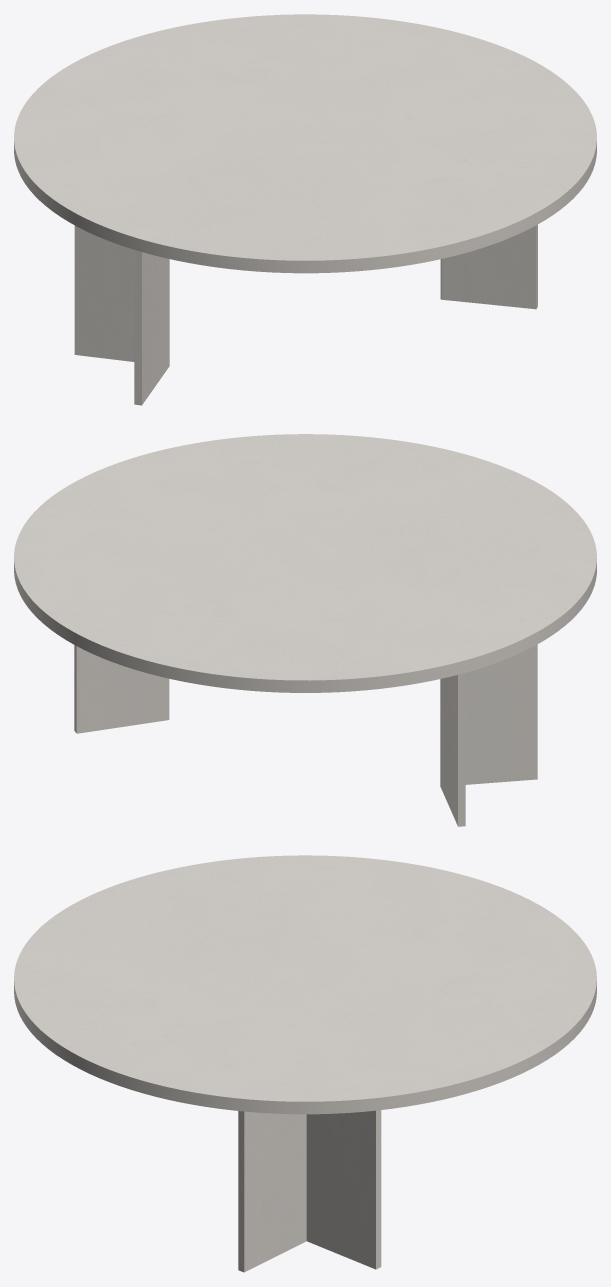
File: pearlwhite_round_standard_valleyv.glb
The picture shows the model from 3 angles, top to bottom: view 1: azimuth 30°, elevation 25°; view 2: azimuth 150°, elevation 25°; view 3: azimuth 270°, elevation 25°; orthographic projection.
Visible parts, largest first — view 1: standard_round, valleyv; view 2: standard_round, valleyv; view 3: standard_round, valleyv.
Boxes of the visible parts, x1,y1,x2,y2 form: standard_round: [14, 14, 596, 273]; valleyv: [74, 224, 537, 405]; standard_round: [14, 434, 596, 692]; valleyv: [74, 644, 537, 826]; standard_round: [14, 855, 596, 1114]; valleyv: [238, 1110, 381, 1272].
Bounding box in the file's own units: 6.75 × 2.5 × 6.75.
Materials: 1 (1 with a texture image).
